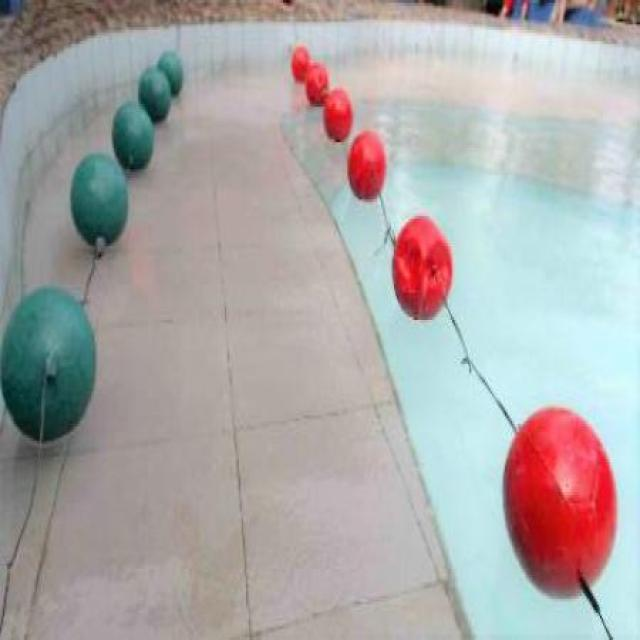buoy: (500, 403, 616, 598), (0, 284, 97, 446), (390, 212, 453, 318), (68, 152, 128, 248), (110, 99, 155, 168), (346, 130, 386, 199), (137, 68, 170, 124), (322, 87, 352, 143), (156, 49, 182, 93), (306, 64, 328, 105), (291, 43, 309, 82)
